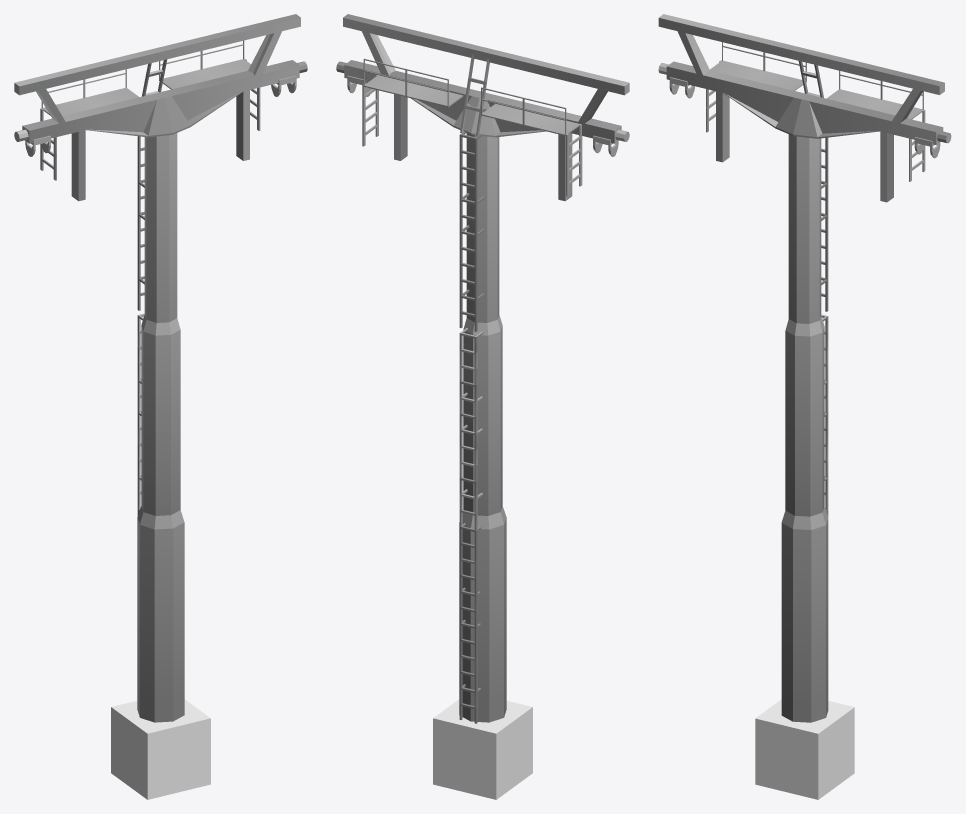
The model's file is heavy_duty_tower.fbx.
3 renders of one model, left to right at view 1: azimuth 30°, elevation 25°; view 2: azimuth 150°, elevation 25°; view 3: azimuth 330°, elevation 25°, orthographic.
Parts seen in each view (by area): view 1: Support Top.001, Support L.001, Base.001, Support M.001, Support S.001, Catwalk.002, Ladder Base Segment.005, Ladder Base Segment.004; view 2: Support Top.001, Support L.001, Base.001, Support M.001, Support S.001, Catwalk.002, Ladder Base Segment.005, Ladder Base Segment.004, Ladder Base Segment.003, Ladder Top.001; view 3: Support Top.001, Support L.001, Base.001, Support M.001, Support S.001, Catwalk.002, Ladder Base Segment.005, Ladder Base Segment.004.
Boxes of the visible parts, x1,y1,x2,y2 form: Support Top.001: (14, 14, 307, 201); Support L.001: (137, 506, 184, 722); Base.001: (111, 699, 210, 799); Support M.001: (141, 315, 180, 515); Support S.001: (144, 133, 177, 322); Catwalk.002: (40, 40, 260, 180); Ladder Base Segment.005: (137, 136, 144, 310); Ladder Base Segment.004: (137, 313, 144, 509); Support Top.001: (336, 14, 629, 201); Support L.001: (459, 506, 506, 722); Base.001: (433, 699, 532, 799); Support M.001: (463, 315, 502, 515); Support S.001: (466, 133, 499, 322); Catwalk.002: (362, 58, 582, 195); Ladder Base Segment.005: (459, 131, 484, 331); Ladder Base Segment.004: (459, 328, 483, 530); Ladder Base Segment.003: (459, 523, 481, 723); Ladder Top.001: (460, 54, 489, 136); Support Top.001: (658, 14, 951, 202); Support L.001: (781, 506, 828, 722); Base.001: (755, 699, 854, 799); Support M.001: (785, 316, 824, 516); Support S.001: (788, 134, 821, 323); Catwalk.002: (706, 42, 925, 181); Ladder Base Segment.005: (821, 137, 828, 311); Ladder Base Segment.004: (821, 314, 828, 509).
Bounding box in the file's own units: 822 × 1988 × 180.
